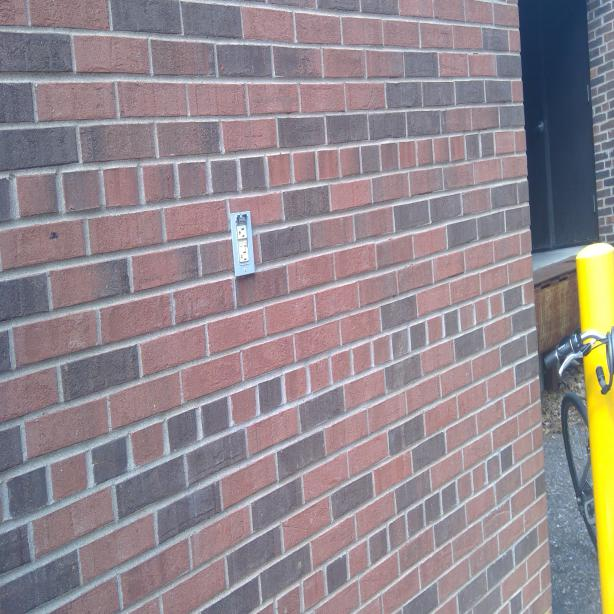typeb: (238, 247, 250, 264), (236, 225, 247, 239)
